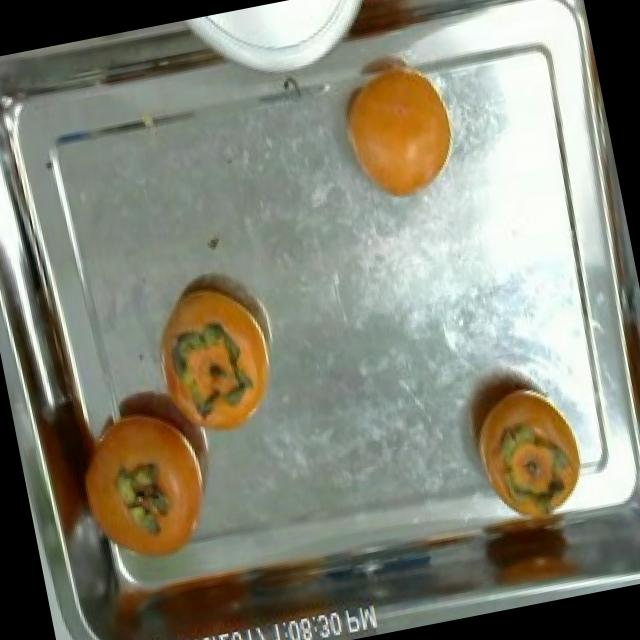Fruit: (59, 384, 237, 592), (317, 28, 477, 220), (140, 268, 294, 458), (454, 366, 594, 528), (464, 484, 600, 609)
